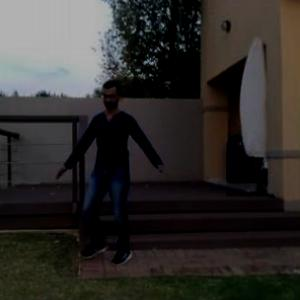land: (64, 93, 171, 270)
